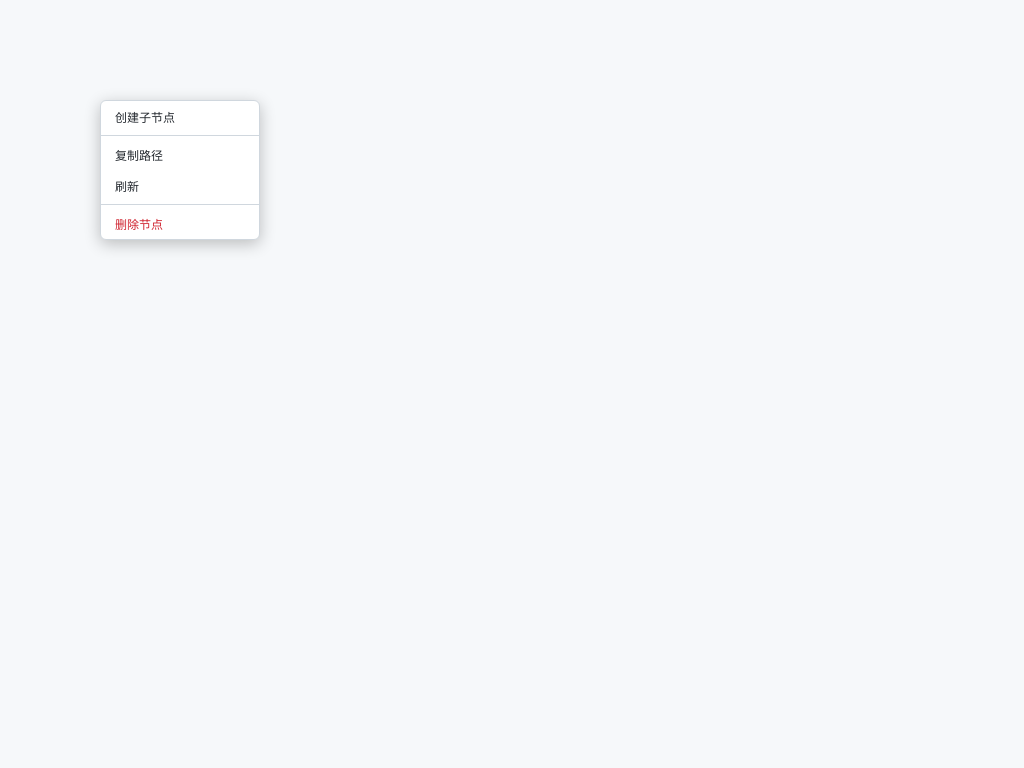
Test: TreeContextMenu › shows warning text when delete is clicked for a node with children
Click the text "删除节点". click: (139, 224)
box: [115, 217, 163, 232]
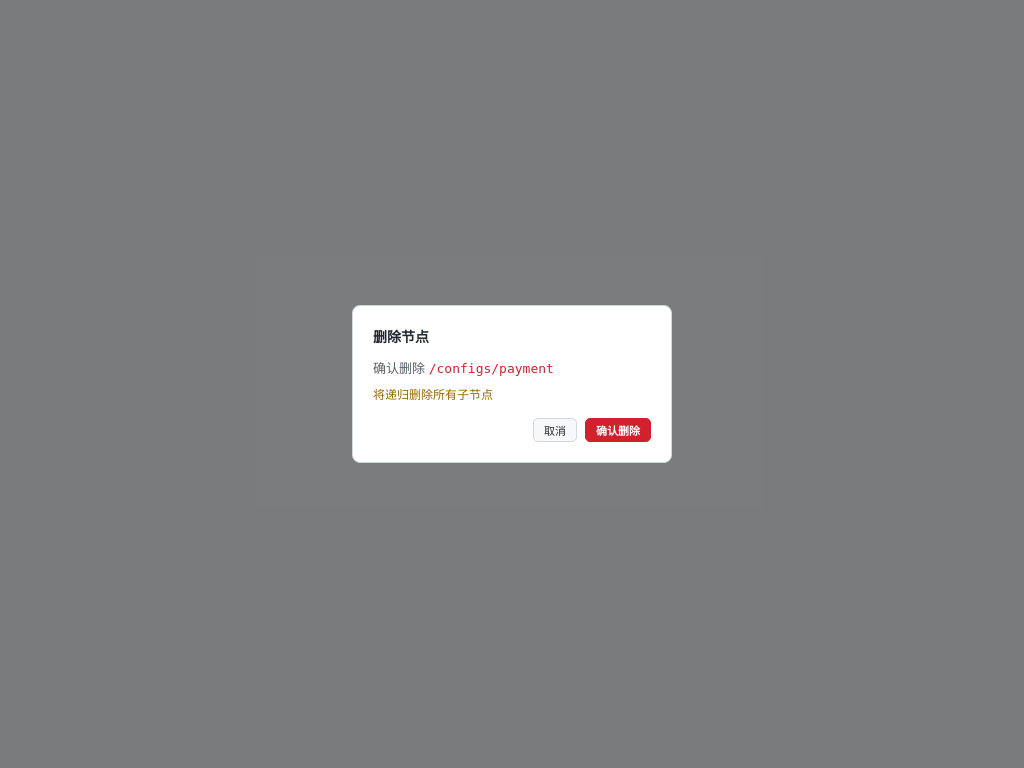
Expected: the text "将递归删除所有子节点" is shown, [373, 387, 493, 402]
